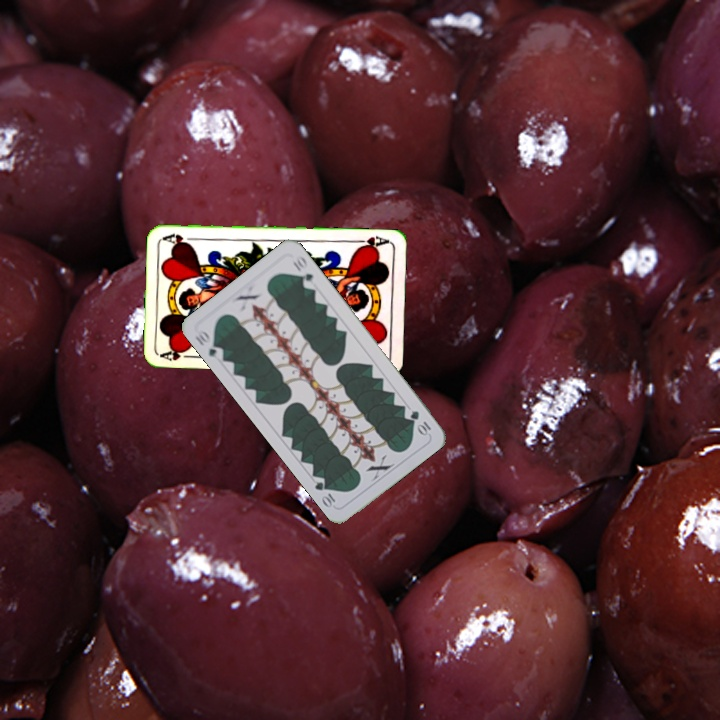G10: (190, 327, 226, 363), (406, 406, 434, 438)
HA: (350, 232, 390, 252), (158, 346, 198, 363)
